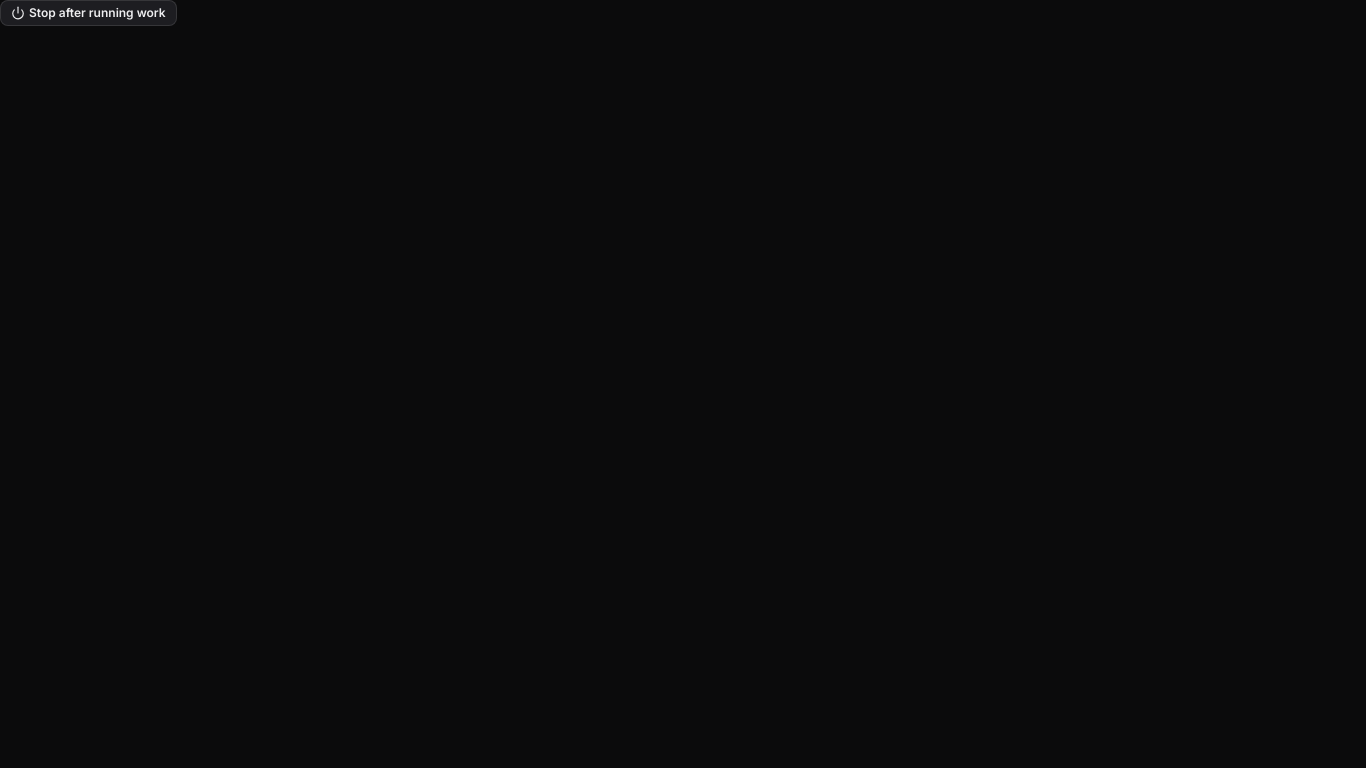
Test: DrainControl as a button › tells in the dialog what stops and what does not
What coordinates should you click on to do the following:
click the button "Stop after running work"
I would click on:
 (88, 13)
Its box is [0,0,177,26].
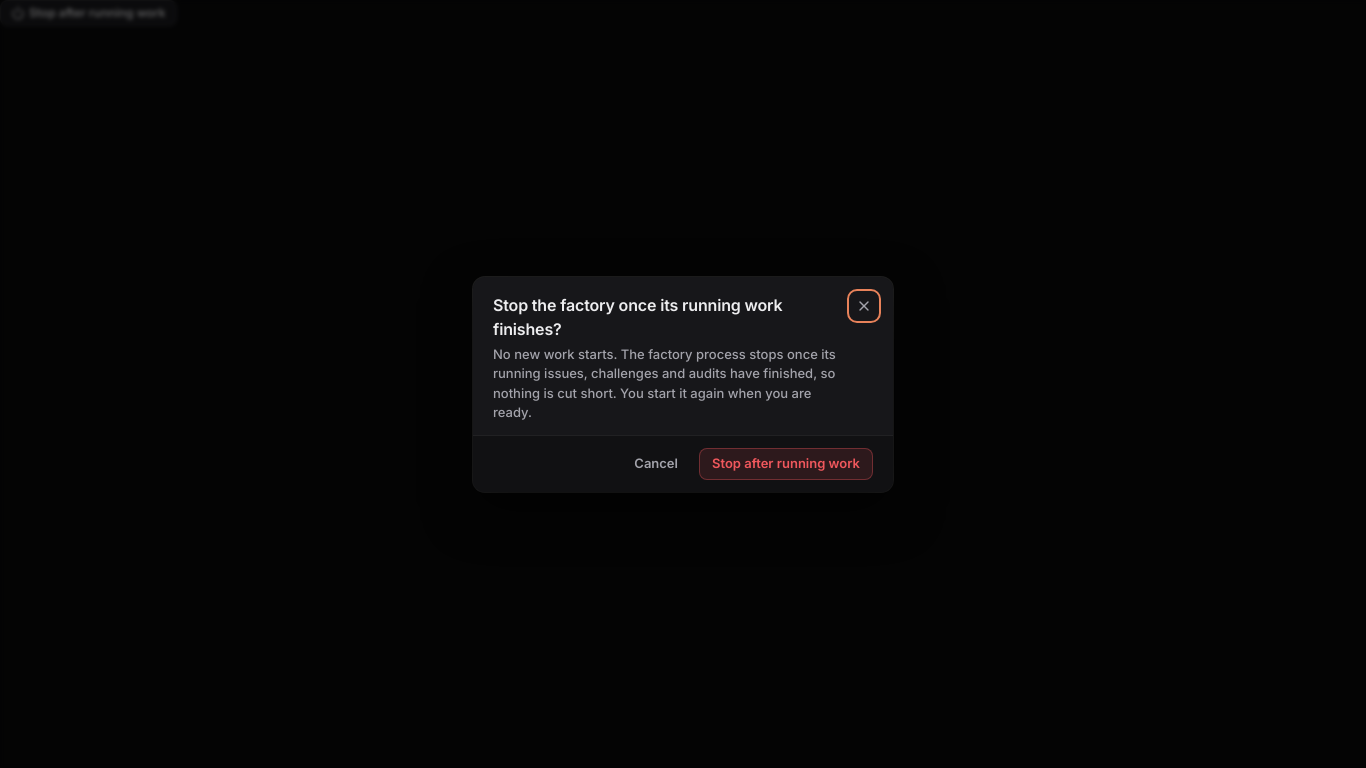
Check: the dialog "Stop the factory once its running work finishes?" shows "No new work starts. The factory process stops once its running issues, challenges and audits have finished", box [493,346,836,420]
